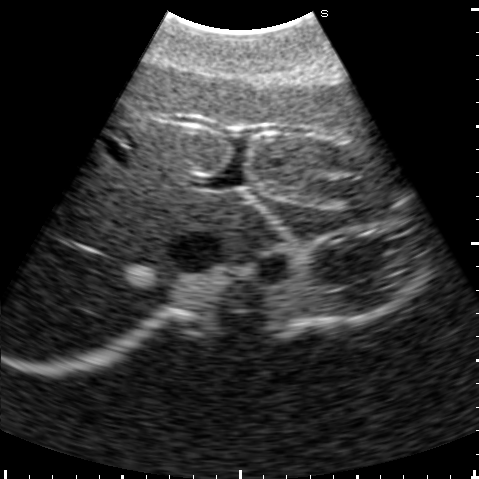IVC: (164, 230, 230, 273)
S1: (216, 199, 278, 260)
S2: (248, 175, 411, 237)
S3: (229, 77, 401, 203)
